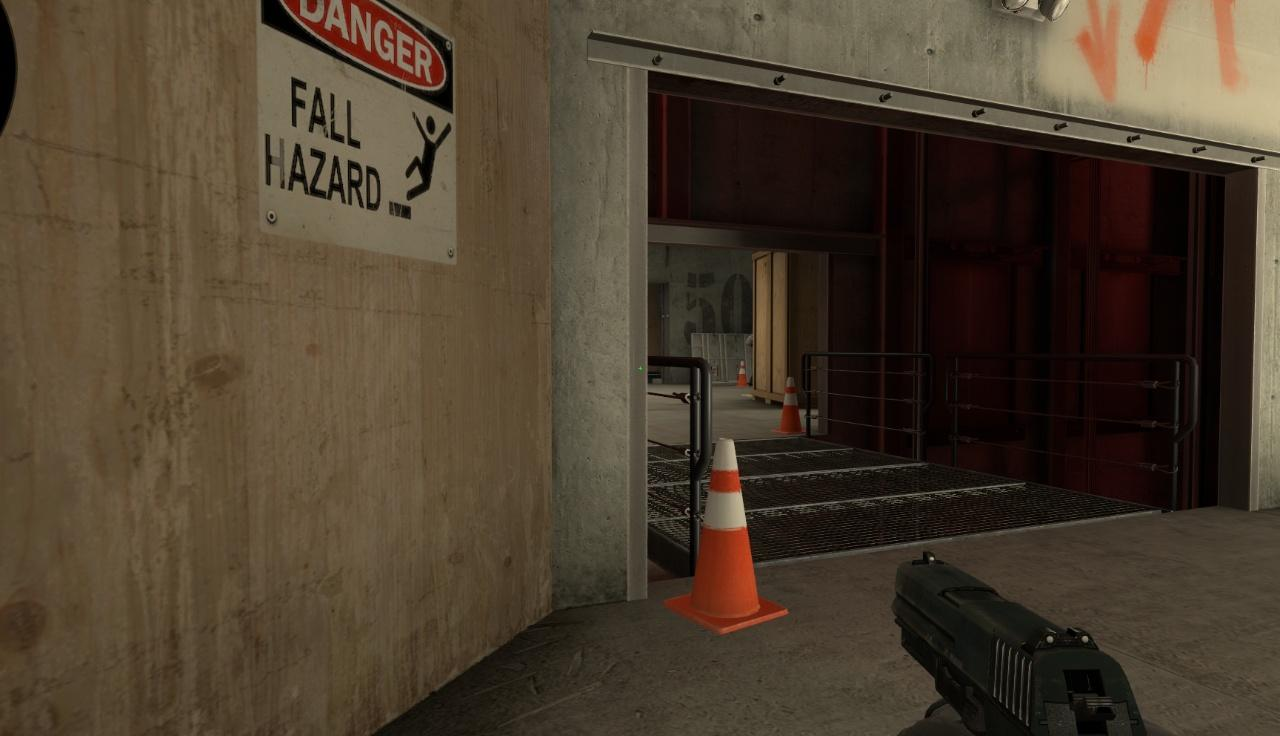pistol: (890, 548, 1155, 734)
